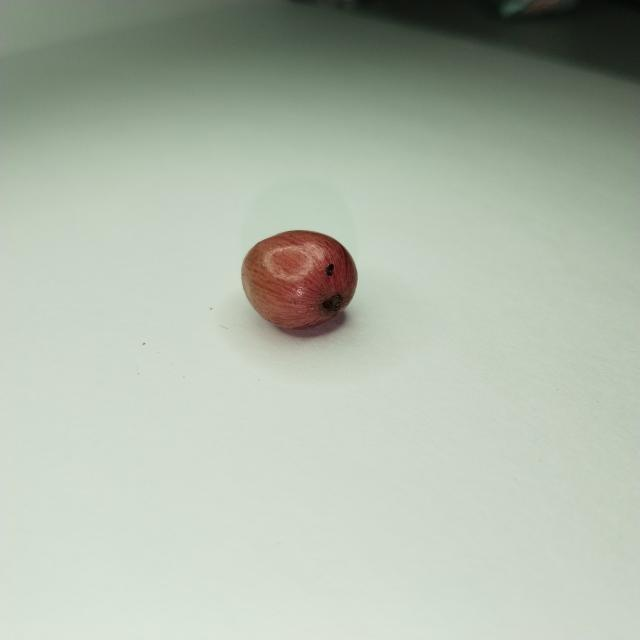Infectado: (241, 230, 357, 329)
